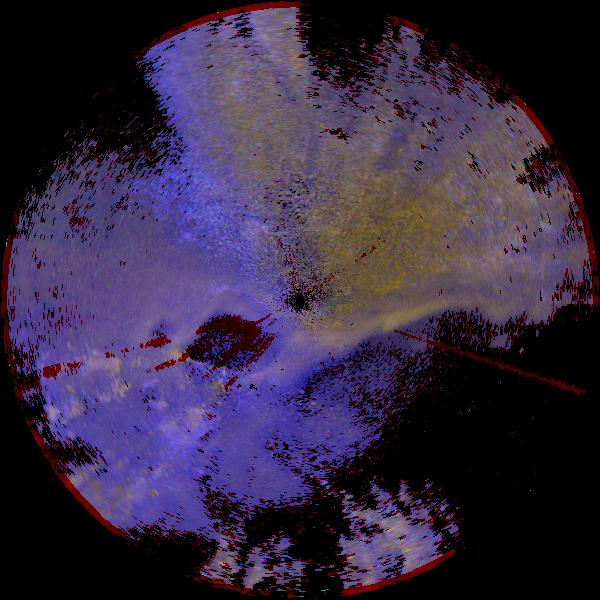roost: (135, 342, 195, 402), (76, 353, 130, 407)
